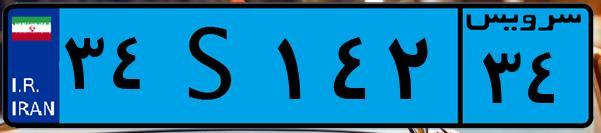1: (270, 28, 330, 110)
2: (385, 28, 445, 110)
3: (57, 26, 110, 100), (475, 38, 525, 113)
4: (330, 28, 385, 110), (525, 38, 570, 115), (110, 28, 158, 98)
S: (158, 12, 270, 120)
